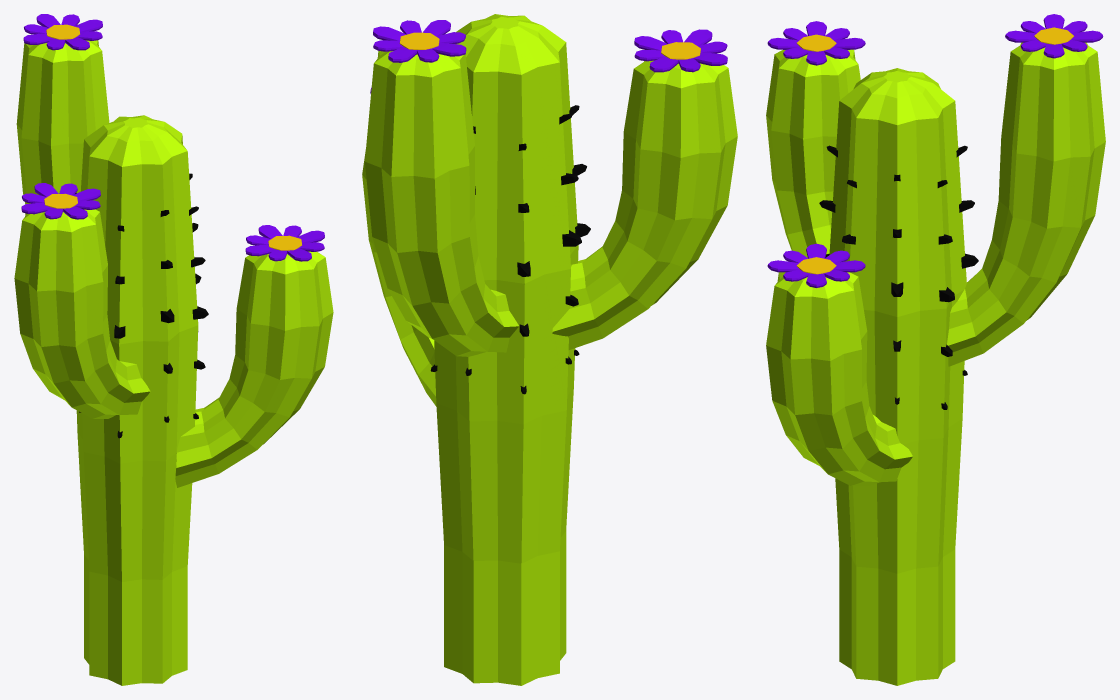
The model's file is Cardon02_03Brazos_Flor_Morada.fbx.
The picture shows the model from 3 angles, left to right: view 1: azimuth 30°, elevation 25°; view 2: azimuth 150°, elevation 25°; view 3: azimuth 270°, elevation 25°; orthographic projection. The views are drawn at different scales.
Visible parts, largest first — view 1: Cactus, Flor_Morada, Espinas; view 2: Cactus, Flor_Morada, Espinas; view 3: Cactus, Flor_Morada, Espinas.
Boxes of the visible parts, x1,y1,x2,y2 form: Cactus: [14, 40, 333, 685]; Flor_Morada: [21, 14, 324, 261]; Espinas: [75, 173, 208, 438]; Cactus: [362, 14, 737, 685]; Flor_Morada: [370, 20, 727, 93]; Espinas: [430, 105, 590, 394]; Cactus: [766, 42, 1105, 685]; Flor_Morada: [767, 14, 1103, 287]; Espinas: [819, 145, 978, 409].
Bounding box in the file's own units: 124 × 226 × 111.
